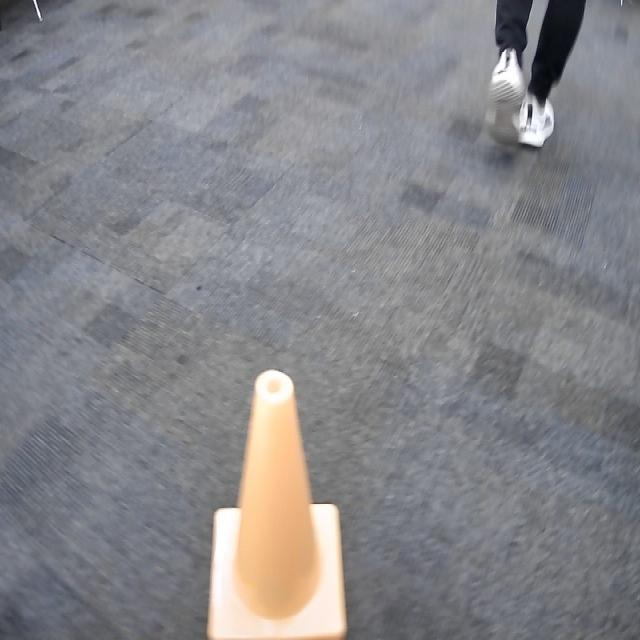cone: (207, 367, 347, 640)
